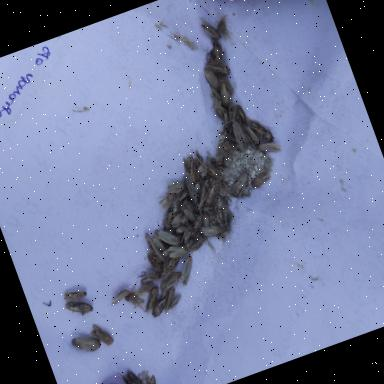pbw: (248, 114, 280, 150), (69, 328, 104, 360), (137, 284, 168, 318), (173, 254, 202, 289), (194, 10, 222, 44), (88, 318, 117, 350), (228, 116, 252, 153), (224, 170, 254, 199), (146, 290, 175, 320), (204, 53, 234, 82), (156, 204, 184, 234), (64, 296, 96, 322), (201, 63, 224, 98), (180, 170, 202, 206), (154, 224, 182, 252), (144, 231, 166, 266), (157, 268, 186, 294), (180, 153, 202, 184), (158, 286, 182, 314), (136, 264, 164, 288), (256, 137, 284, 160), (214, 80, 234, 112), (117, 365, 150, 384), (198, 183, 222, 209), (159, 254, 185, 278), (216, 200, 236, 231), (169, 189, 194, 213), (62, 286, 90, 306), (156, 190, 180, 211), (146, 250, 164, 278), (197, 220, 222, 240), (249, 170, 274, 190), (209, 40, 228, 66), (109, 287, 135, 306), (234, 101, 251, 130), (168, 210, 190, 231), (124, 290, 147, 310), (166, 244, 191, 262), (220, 74, 237, 100), (205, 161, 223, 185), (217, 148, 237, 169), (182, 204, 199, 228), (166, 178, 188, 196), (178, 228, 197, 248), (220, 111, 234, 135), (198, 208, 214, 228), (166, 294, 185, 310), (139, 374, 165, 384), (210, 96, 224, 114)
